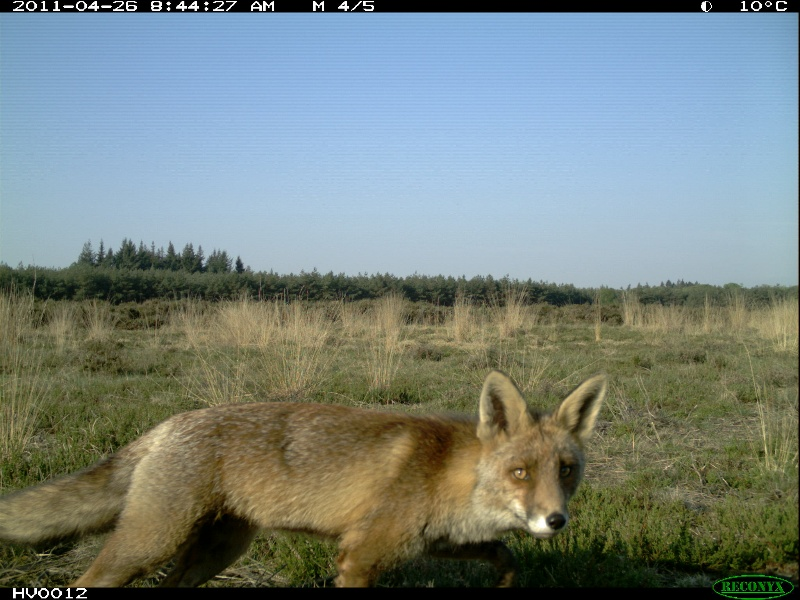fox: (1, 369, 611, 579)
